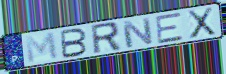B: (59, 27, 88, 60)
E: (154, 11, 186, 46)
M: (24, 31, 61, 65)
N: (120, 17, 155, 50)
R: (89, 21, 123, 56)
X: (186, 6, 217, 40)
